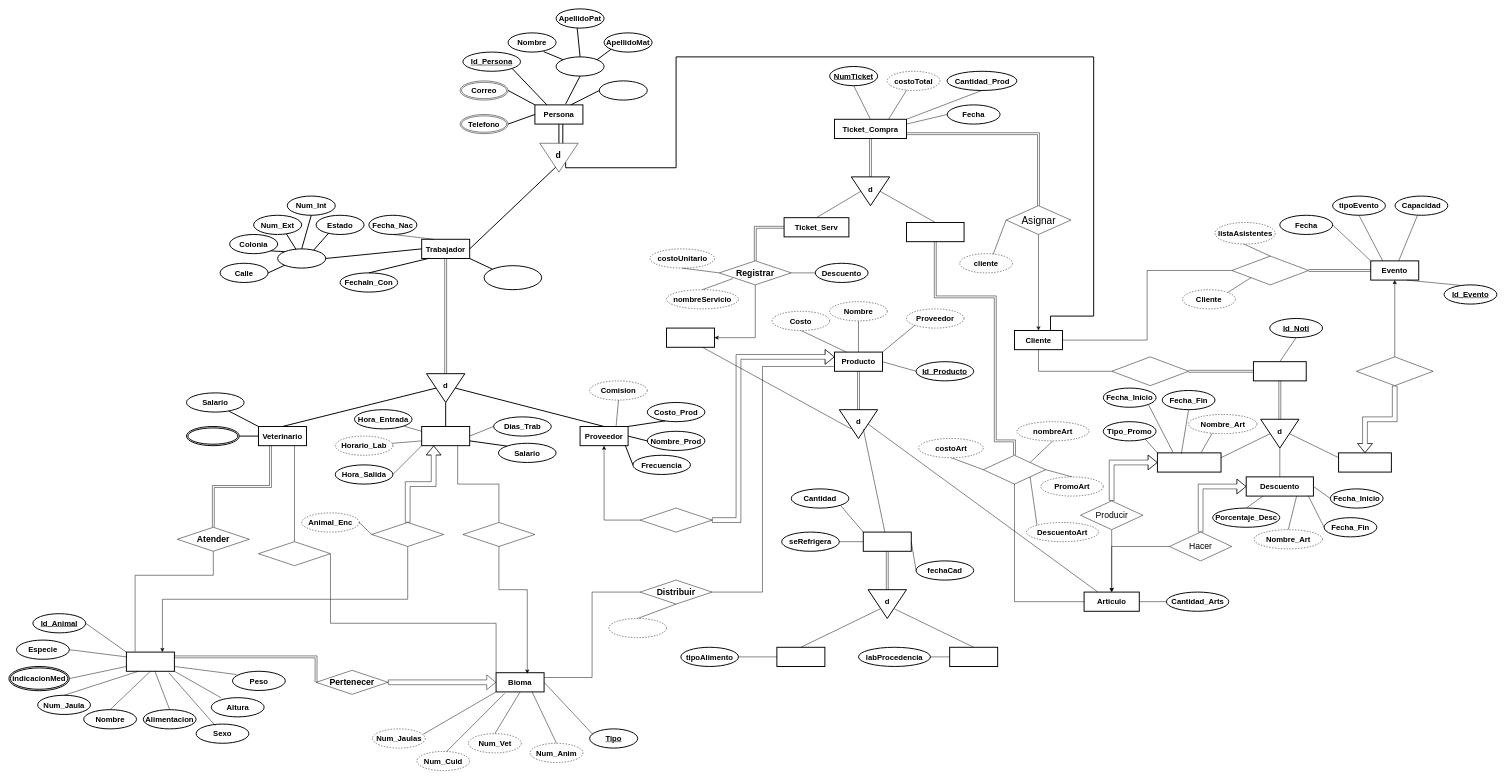
Image size: 1505x779. Some labels were removed from this diagram. Here are the shapes that lost their labels. From the top down, the centre of each, then its label:
the point at 579,66: NombreC
the point at 623,90: Genero
the point at 935,232: Ticket_Art
the point at 301,258: Direccion
the point at 512,277: FechaFin_Con
the point at 1270,270: Asistir
the point at 690,337: Servicio
the point at 1150,371: Recibir
the point at 1279,371: Notificacion
the point at 1394,371: Generar
the point at 213,436: Especialidad
the point at 445,436: Cuidador
the point at 1014,469: Asociar
the point at 1189,462: Promocion
the point at 1365,462: Noti_Evento
the point at 407,534: Cuidar
the point at 498,534: Laborar
the point at 676,520: Proveer
the point at 294,553: Trabajar
the point at 887,541: Insumo
the point at 637,628: Bioma_Distr
the point at 150,661: Animal
the point at 800,657: Alimento
the point at 973,657: Medicina
